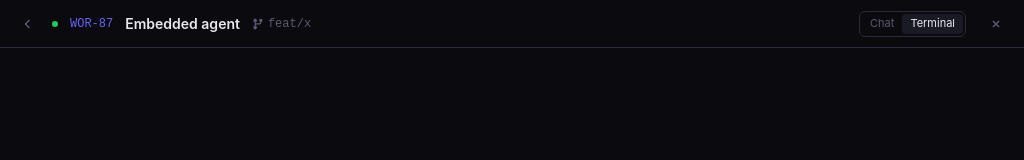
Test: TaskView › keeps the current view and shows the error when stopping fails
The width and height of the screenshot is (1024, 160).
Expected: the picture named "running" is shown, [52,20,58,26]
Click the button "Chat": coordinates (882, 24) [862,14,902,34]
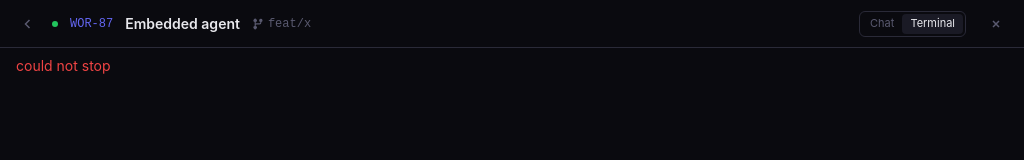
Expected: the message reads "could not stop", [16,57,111,74]
